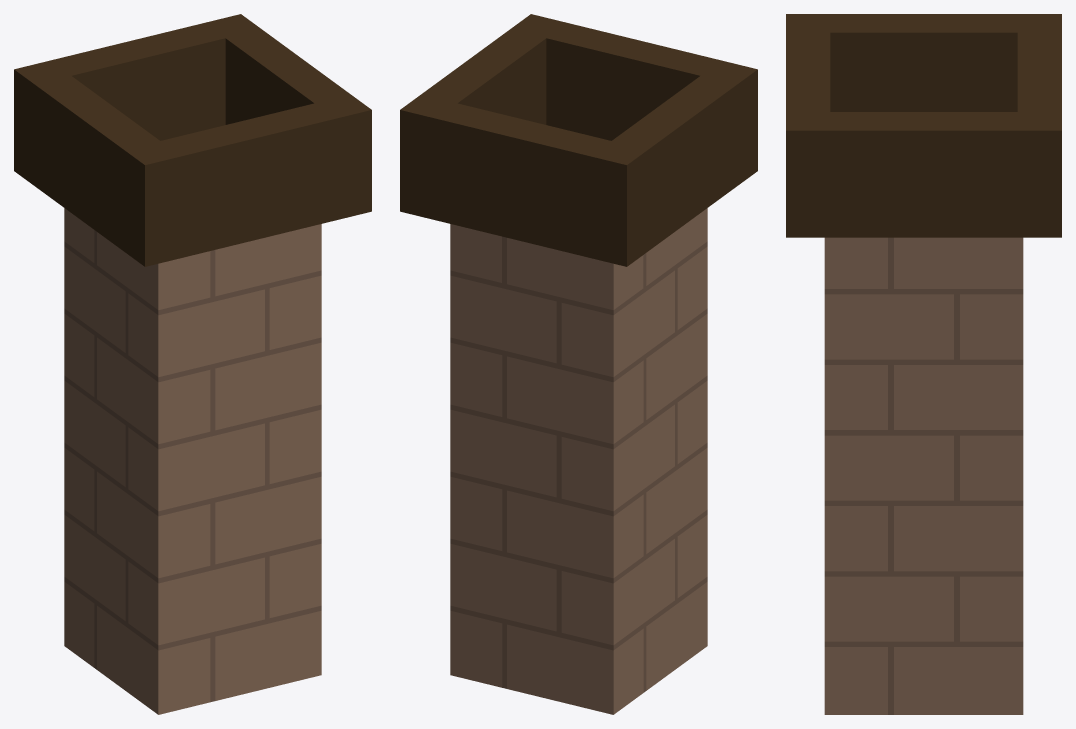
Rendered from Chimney2_C5.fbx.
The picture shows the model from 3 angles, left to right: view 1: azimuth 30°, elevation 25°; view 2: azimuth 150°, elevation 25°; view 3: azimuth 270°, elevation 25°; orthographic projection. The views are drawn at different scales.
Parts seen in each view (by area): view 1: Chimney2_C5; view 2: Chimney2_C5; view 3: Chimney2_C5.
Boxes of the visible parts, bbox=[...] form: Chimney2_C5: bbox=[14, 14, 371, 714]; Chimney2_C5: bbox=[400, 14, 757, 714]; Chimney2_C5: bbox=[786, 14, 1061, 714].
Bounding box in the file's own units: 55.59 × 134 × 55.59.
